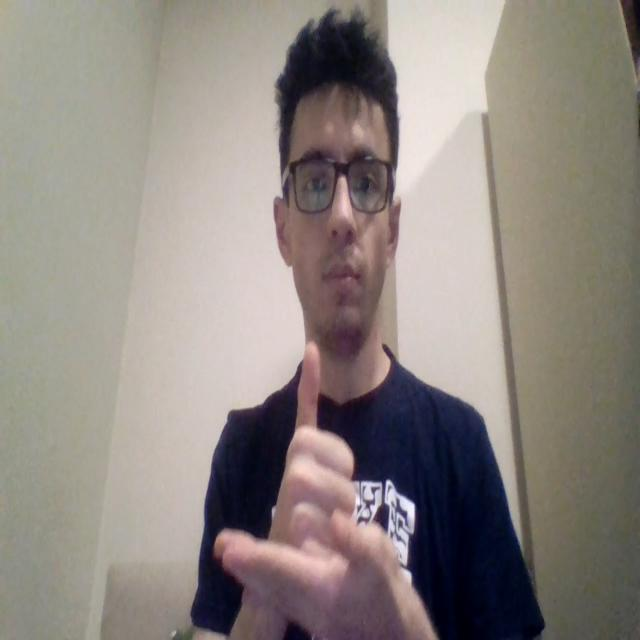help: (216, 336, 401, 640)
